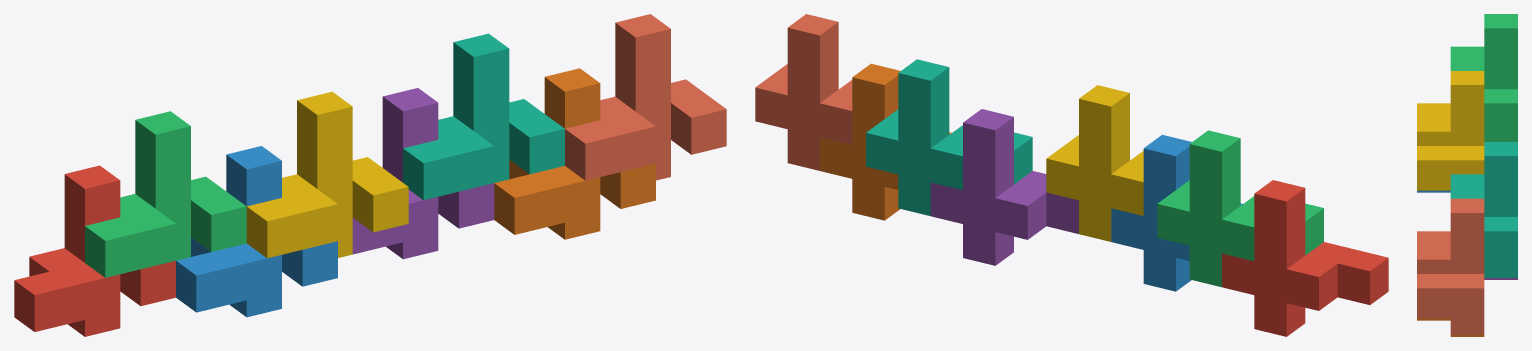
File: tiling.obj
3 views of the same model, side by side, from view 1: azimuth 30°, elevation 25°; view 2: azimuth 150°, elevation 25°; view 3: azimuth 270°, elevation 25° (orthographic). The views are drawn at different scales.
Parts seen in each view (by area): view 1: copy_1_domain_4, copy_1_domain_8, copy_1_domain_7, copy_1_domain_3, copy_1_domain_1, copy_1_domain_6, copy_1_domain_2, copy_1_domain_5; view 2: copy_1_domain_1, copy_1_domain_5, copy_1_domain_3, copy_1_domain_7, copy_1_domain_8, copy_1_domain_4, copy_1_domain_2, copy_1_domain_6; view 3: copy_1_domain_8, copy_1_domain_4, copy_1_domain_7, copy_1_domain_3, copy_1_domain_6, copy_1_domain_2.
Part boxes in pixels (box(x1,y1,x2,y2)): copy_1_domain_4: box(246, 91, 408, 258); copy_1_domain_8: box(565, 14, 726, 180); copy_1_domain_7: box(403, 33, 564, 200); copy_1_domain_3: box(85, 111, 246, 277); copy_1_domain_1: box(14, 165, 175, 336); copy_1_domain_6: box(494, 68, 655, 239); copy_1_domain_2: box(176, 146, 337, 317); copy_1_domain_5: box(352, 88, 494, 259); copy_1_domain_1: box(1222, 180, 1388, 336); copy_1_domain_5: box(930, 109, 1078, 265); copy_1_domain_3: box(1157, 130, 1323, 287); copy_1_domain_7: box(866, 59, 1032, 215); copy_1_domain_8: box(755, 14, 852, 170); copy_1_domain_4: box(1046, 85, 1143, 241); copy_1_domain_2: box(1111, 134, 1242, 291); copy_1_domain_6: box(820, 63, 951, 220); copy_1_domain_8: box(1417, 198, 1484, 334); copy_1_domain_4: box(1417, 71, 1484, 190); copy_1_domain_7: box(1450, 142, 1517, 277); copy_1_domain_3: box(1450, 14, 1517, 141); copy_1_domain_6: box(1417, 318, 1484, 336); copy_1_domain_2: box(1417, 190, 1450, 192).
Size of the model in its own units: 19 by 5 by 3.
